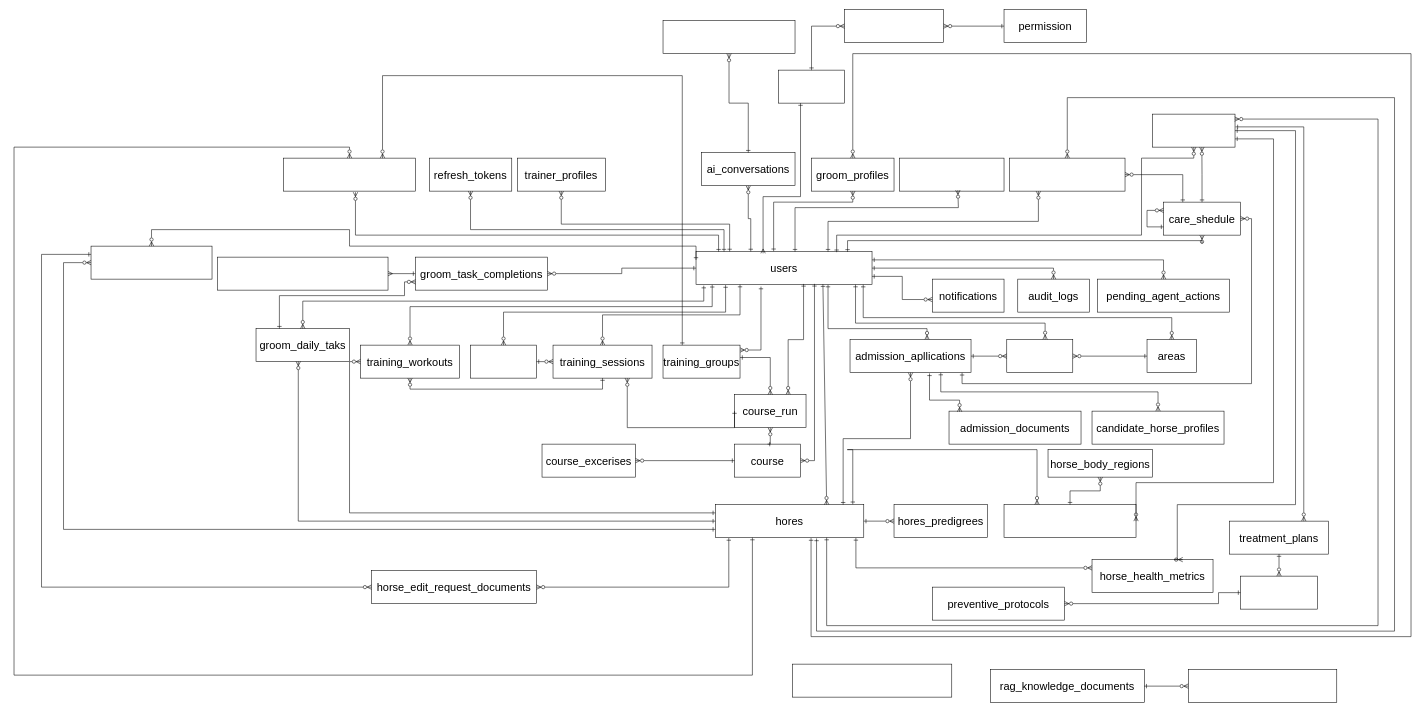
This 1426x712 diagram has some shape labels left out. The shapes that lost their labels are listed below. From the top down, each one's centre as x and y in pixels, then its label:
(728,37): ai_chat_messages
(894,26): role_permissions
(811,86): roles
(1193,130): health_records
(349,174): training_group_members
(951,174): veterinarian_profiles
(1067,174): horse_incident_reports
(151,262): horse_edit_requests
(302,273): groom_task_completion_photos
(503,361): excerises
(1039,356): stable_stalls
(1069,521): health_conditions
(1279,592): presciptions
(872,680): medical_symptom_mappings
(1262,686): rag_knowledge_embeddings
